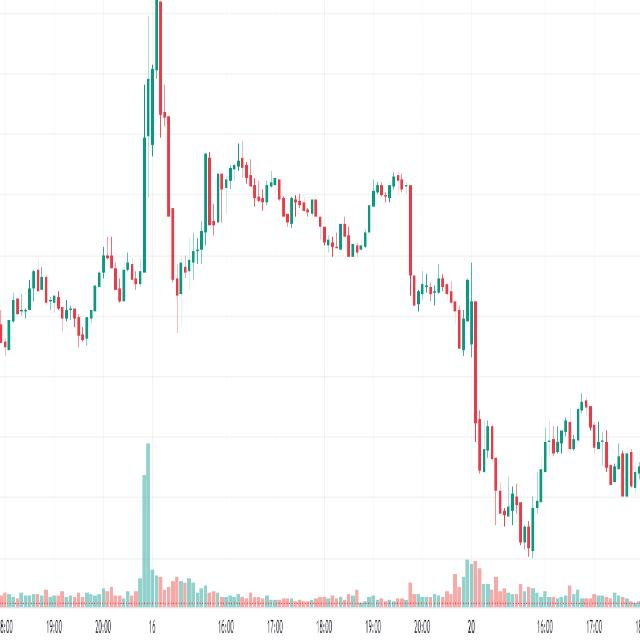Falling-Wedge: (199, 90, 382, 277)
Head-Shoulders: (131, 0, 188, 344)
